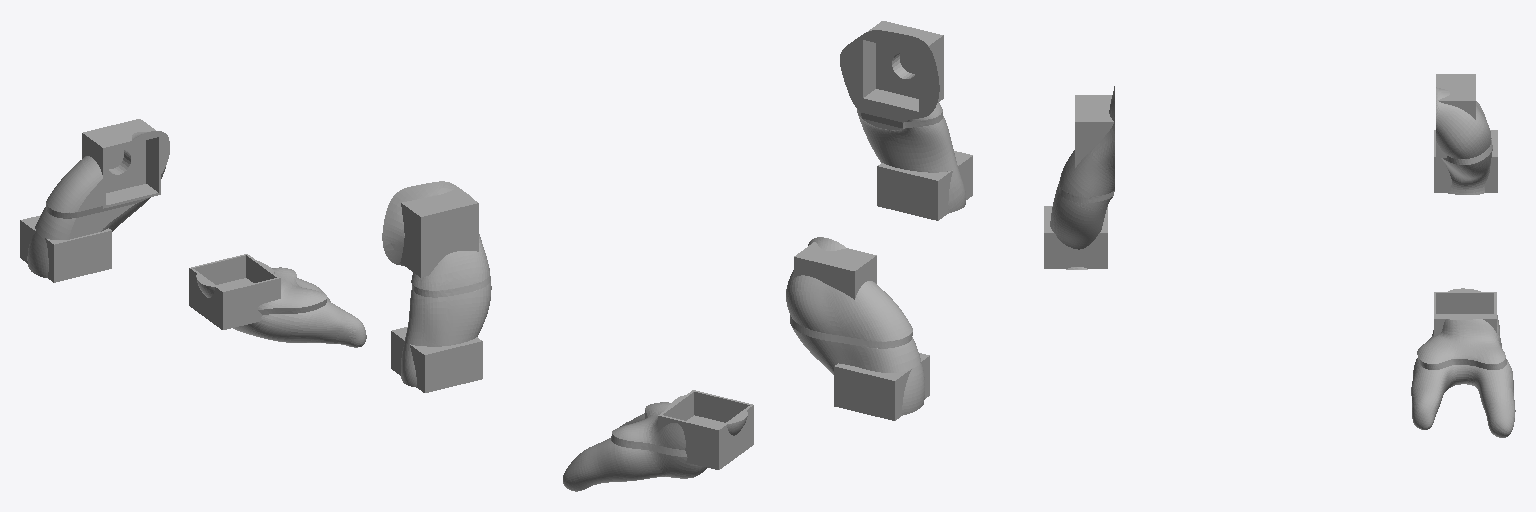
robot.urdf — FrogBot4_top-FrogBot4-y-1_bottom-FrogBot4-y-1:
<?xml version="1.0" ?>
<robot name="FrogBot4_top-FrogBot4-y-1_bottom-FrogBot4-y-1">

<material name="pla_5_percent_infill">
  <color rgba="0.700 0.700 0.700 1.000"/>
</material>

<link name="base_link">
  <inertial>
    <origin xyz="0 0 0" rpy="0 0 0"/>
    <mass value="1.4608203761339813"/>
    <inertia ixx="0.00496034401110324" iyy="0.010259632804669863" izz="0.010457868746855814" ixy="4.519338143051983e-05" iyz="5.808312742508133e-05" ixz="-0.001193761897574285"/>
  </inertial>
  <visual>
    <origin xyz="0 0 0" rpy="0 0 0"/>
    <geometry>
      <mesh filename="simple_meshes/base_link.stl" scale="0.001 0.001 0.001"/>
    </geometry>
    <material name="pla_5_percent_infill"/>
  </visual>
  <collision>
    <origin xyz="0 0 0" rpy="0 0 0"/>
    <geometry>
      <mesh filename="simple_meshes/base_link.stl" scale="0.001 0.001 0.001"/>
    </geometry>
  </collision>
</link>

<link name="body_1_0_1">
  <inertial>
    <origin xyz="-0.039935 -0.102508 -0.020563" rpy="0 0 0"/>
    <mass value="0.06313492369456997"/>
    <inertia ixx="5.843325428574143e-05" iyy="7.04835361188316e-05" izz="2.8563724284362416e-05" ixy="8.239008404329587e-07" iyz="1.7999714321806554e-06" ixz="-1.0703921743233354e-05"/>
  </inertial>
  <visual>
    <origin xyz="-0.039935 -0.102508 -0.020563" rpy="0 0 0"/>
    <geometry>
      <mesh filename="simple_meshes/body_1_0_1.stl" scale="0.001 0.001 0.001"/>
    </geometry>
    <material name="pla_5_percent_infill"/>
  </visual>
  <collision>
    <origin xyz="-0.039935 -0.102508 -0.020563" rpy="0 0 0"/>
    <geometry>
      <mesh filename="simple_meshes/body_1_0_1.stl" scale="0.001 0.001 0.001"/>
    </geometry>
  </collision>
</link>

<link name="body_1_1_1">
  <inertial>
    <origin xyz="0.084829 -0.102508 0.010182" rpy="0 0 0"/>
    <mass value="0.06673737677147111"/>
    <inertia ixx="3.983383224579178e-05" iyy="7.526511997601928e-05" izz="5.270763807124594e-05" ixy="-1.2538064368516465e-06" iyz="1.1250889303848798e-06" ixz="-1.828701279363404e-05"/>
  </inertial>
  <visual>
    <origin xyz="0.084829 -0.102508 0.010182" rpy="0 0 0"/>
    <geometry>
      <mesh filename="simple_meshes/body_1_1_1.stl" scale="0.001 0.001 0.001"/>
    </geometry>
    <material name="pla_5_percent_infill"/>
  </visual>
  <collision>
    <origin xyz="0.084829 -0.102508 0.010182" rpy="0 0 0"/>
    <geometry>
      <mesh filename="simple_meshes/body_1_1_1.stl" scale="0.001 0.001 0.001"/>
    </geometry>
  </collision>
</link>

<link name="body_1_2_1">
  <inertial>
    <origin xyz="-0.032973 0.102508 -0.03352" rpy="0 0 0"/>
    <mass value="0.06955426381283918"/>
    <inertia ixx="7.500047955113771e-05" iyy="8.648441072695885e-05" izz="3.210062370877058e-05" ixy="-2.199899373185935e-06" iyz="-8.821046103620829e-06" ixz="-9.195537521228036e-06"/>
  </inertial>
  <visual>
    <origin xyz="-0.032973 0.102508 -0.03352" rpy="0 0 0"/>
    <geometry>
      <mesh filename="simple_meshes/body_1_2_1.stl" scale="0.001 0.001 0.001"/>
    </geometry>
    <material name="pla_5_percent_infill"/>
  </visual>
  <collision>
    <origin xyz="-0.032973 0.102508 -0.03352" rpy="0 0 0"/>
    <geometry>
      <mesh filename="simple_meshes/body_1_2_1.stl" scale="0.001 0.001 0.001"/>
    </geometry>
  </collision>
</link>

<link name="body_1_3_1">
  <inertial>
    <origin xyz="0.075405 0.102508 -0.000907" rpy="0 0 0"/>
    <mass value="0.07198462885448909"/>
    <inertia ixx="4.4425021382359054e-05" iyy="8.068727495059937e-05" izz="5.518924378403352e-05" ixy="4.2159472883845743e-07" iyz="-1.1244787044685056e-06" ixz="-1.861083687009483e-05"/>
  </inertial>
  <visual>
    <origin xyz="0.075405 0.102508 -0.000907" rpy="0 0 0"/>
    <geometry>
      <mesh filename="simple_meshes/body_1_3_1.stl" scale="0.001 0.001 0.001"/>
    </geometry>
    <material name="pla_5_percent_infill"/>
  </visual>
  <collision>
    <origin xyz="0.075405 0.102508 -0.000907" rpy="0 0 0"/>
    <geometry>
      <mesh filename="simple_meshes/body_1_3_1.stl" scale="0.001 0.001 0.001"/>
    </geometry>
  </collision>
</link>

<link name="body_2_0_1">
  <inertial>
    <origin xyz="-0.025656 -0.145015 0.090436" rpy="0 0 0"/>
    <mass value="0.06594764042116746"/>
    <inertia ixx="3.854212829119746e-05" iyy="5.867800589861921e-05" izz="7.538996514267274e-05" ixy="-8.648428678402443e-07" iyz="4.19097294451342e-07" ixz="1.3237917248230965e-05"/>
  </inertial>
  <visual>
    <origin xyz="-0.025656 -0.145015 0.090436" rpy="0 0 0"/>
    <geometry>
      <mesh filename="simple_meshes/body_2_0_1.stl" scale="0.001 0.001 0.001"/>
    </geometry>
    <material name="pla_5_percent_infill"/>
  </visual>
  <collision>
    <origin xyz="-0.025656 -0.145015 0.090436" rpy="0 0 0"/>
    <geometry>
      <mesh filename="simple_meshes/body_2_0_1.stl" scale="0.001 0.001 0.001"/>
    </geometry>
  </collision>
</link>

<link name="body_2_1_1">
  <inertial>
    <origin xyz="0.114857 -0.145661 0.090438" rpy="0 0 0"/>
    <mass value="0.058043657931819856"/>
    <inertia ixx="2.523367734305615e-05" iyy="5.4249261467249465e-05" izz="5.5471699931439926e-05" ixy="-4.9333440549038585e-06" iyz="3.213482911364283e-06" ixz="1.4245181836913118e-05"/>
  </inertial>
  <visual>
    <origin xyz="0.114857 -0.145661 0.090438" rpy="0 0 0"/>
    <geometry>
      <mesh filename="simple_meshes/body_2_1_1.stl" scale="0.001 0.001 0.001"/>
    </geometry>
    <material name="pla_5_percent_infill"/>
  </visual>
  <collision>
    <origin xyz="0.114857 -0.145661 0.090438" rpy="0 0 0"/>
    <geometry>
      <mesh filename="simple_meshes/body_2_1_1.stl" scale="0.001 0.001 0.001"/>
    </geometry>
  </collision>
</link>

<link name="body_2_2_1">
  <inertial>
    <origin xyz="-0.022601 0.152053 0.090436" rpy="0 0 0"/>
    <mass value="0.0726155890100858"/>
    <inertia ixx="4.226231214159116e-05" iyy="6.230914563100376e-05" izz="8.051978925855286e-05" ixy="-1.616787801618719e-06" iyz="-1.3173557591181564e-07" ixz="1.4054700895365507e-05"/>
  </inertial>
  <visual>
    <origin xyz="-0.022601 0.152053 0.090436" rpy="0 0 0"/>
    <geometry>
      <mesh filename="simple_meshes/body_2_2_1.stl" scale="0.001 0.001 0.001"/>
    </geometry>
    <material name="pla_5_percent_infill"/>
  </visual>
  <collision>
    <origin xyz="-0.022601 0.152053 0.090436" rpy="0 0 0"/>
    <geometry>
      <mesh filename="simple_meshes/body_2_2_1.stl" scale="0.001 0.001 0.001"/>
    </geometry>
  </collision>
</link>

<link name="body_2_3_1">
  <inertial>
    <origin xyz="0.12145 0.146005 0.090436" rpy="0 0 0"/>
    <mass value="0.05640821954295647"/>
    <inertia ixx="3.344273138606484e-05" iyy="4.363898696860009e-05" izz="5.75641247310629e-05" ixy="7.4872157144842844e-06" iyz="-5.587502073621867e-06" ixz="9.579623937786756e-06"/>
  </inertial>
  <visual>
    <origin xyz="0.12145 0.146005 0.090436" rpy="0 0 0"/>
    <geometry>
      <mesh filename="simple_meshes/body_2_3_1.stl" scale="0.001 0.001 0.001"/>
    </geometry>
    <material name="pla_5_percent_infill"/>
  </visual>
  <collision>
    <origin xyz="0.12145 0.146005 0.090436" rpy="0 0 0"/>
    <geometry>
      <mesh filename="simple_meshes/body_2_3_1.stl" scale="0.001 0.001 0.001"/>
    </geometry>
  </collision>
</link>

<joint name="joint_1_0" type="revolute">
  <origin xyz="0.039935 0.102508 0.020563" rpy="0 0 0"/>
  <parent link="base_link"/>
  <child link="body_1_0_1"/>
  <axis xyz="0.0 0.0 -1.0"/>
  <limit upper="1.2" lower="-1.2" effort="3.8" velocity="5.4"/>
</joint>
<transmission name="joint_1_0_tran">
  <type>transmission_interface/SimpleTransmission</type>
  <joint name="joint_1_0">
    <hardwareInterface>PositionJointInterface</hardwareInterface>
  </joint>
  <actuator name="joint_1_0_actr">
    <hardwareInterface>PositionJointInterface</hardwareInterface>
    <mechanicalReduction>1</mechanicalReduction>
  </actuator>
</transmission>

<joint name="joint_1_1" type="revolute">
  <origin xyz="-0.084829 0.102508 -0.010182" rpy="0 0 0"/>
  <parent link="base_link"/>
  <child link="body_1_1_1"/>
  <axis xyz="0.0 0.0 -1.0"/>
  <limit upper="1.2" lower="-1.2" effort="3.8" velocity="5.4"/>
</joint>
<transmission name="joint_1_1_tran">
  <type>transmission_interface/SimpleTransmission</type>
  <joint name="joint_1_1">
    <hardwareInterface>PositionJointInterface</hardwareInterface>
  </joint>
  <actuator name="joint_1_1_actr">
    <hardwareInterface>PositionJointInterface</hardwareInterface>
    <mechanicalReduction>1</mechanicalReduction>
  </actuator>
</transmission>

<joint name="joint_1_2" type="revolute">
  <origin xyz="0.032973 -0.102508 0.03352" rpy="0 0 0"/>
  <parent link="base_link"/>
  <child link="body_1_2_1"/>
  <axis xyz="0.0 0.0 -1.0"/>
  <limit upper="1.2" lower="-1.2" effort="3.8" velocity="5.4"/>
</joint>
<transmission name="joint_1_2_tran">
  <type>transmission_interface/SimpleTransmission</type>
  <joint name="joint_1_2">
    <hardwareInterface>PositionJointInterface</hardwareInterface>
  </joint>
  <actuator name="joint_1_2_actr">
    <hardwareInterface>PositionJointInterface</hardwareInterface>
    <mechanicalReduction>1</mechanicalReduction>
  </actuator>
</transmission>

<joint name="joint_1_3" type="revolute">
  <origin xyz="-0.075405 -0.102508 0.000907" rpy="0 0 0"/>
  <parent link="base_link"/>
  <child link="body_1_3_1"/>
  <axis xyz="0.0 0.0 -1.0"/>
  <limit upper="1.2" lower="-1.2" effort="3.8" velocity="5.4"/>
</joint>
<transmission name="joint_1_3_tran">
  <type>transmission_interface/SimpleTransmission</type>
  <joint name="joint_1_3">
    <hardwareInterface>PositionJointInterface</hardwareInterface>
  </joint>
  <actuator name="joint_1_3_actr">
    <hardwareInterface>PositionJointInterface</hardwareInterface>
    <mechanicalReduction>1</mechanicalReduction>
  </actuator>
</transmission>

<joint name="joint_2_0" type="revolute">
  <origin xyz="-0.014279 0.042507 -0.110999" rpy="0 0 0"/>
  <parent link="body_1_0_1"/>
  <child link="body_2_0_1"/>
  <axis xyz="0.0 1.0 0.0"/>
  <limit upper="1.2" lower="-1.2" effort="3.8" velocity="5.4"/>
</joint>
<transmission name="joint_2_0_tran">
  <type>transmission_interface/SimpleTransmission</type>
  <joint name="joint_2_0">
    <hardwareInterface>PositionJointInterface</hardwareInterface>
  </joint>
  <actuator name="joint_2_0_actr">
    <hardwareInterface>PositionJointInterface</hardwareInterface>
    <mechanicalReduction>1</mechanicalReduction>
  </actuator>
</transmission>

<joint name="joint_2_1" type="revolute">
  <origin xyz="-0.030028 0.043153 -0.080256" rpy="0 0 0"/>
  <parent link="body_1_1_1"/>
  <child link="body_2_1_1"/>
  <axis xyz="0.0 1.0 0.0"/>
  <limit upper="1.2" lower="-1.2" effort="3.8" velocity="5.4"/>
</joint>
<transmission name="joint_2_1_tran">
  <type>transmission_interface/SimpleTransmission</type>
  <joint name="joint_2_1">
    <hardwareInterface>PositionJointInterface</hardwareInterface>
  </joint>
  <actuator name="joint_2_1_actr">
    <hardwareInterface>PositionJointInterface</hardwareInterface>
    <mechanicalReduction>1</mechanicalReduction>
  </actuator>
</transmission>

<joint name="joint_2_2" type="revolute">
  <origin xyz="-0.010372 -0.049545 -0.123956" rpy="0 0 0"/>
  <parent link="body_1_2_1"/>
  <child link="body_2_2_1"/>
  <axis xyz="0.0 1.0 0.0"/>
  <limit upper="1.2" lower="-1.2" effort="3.8" velocity="5.4"/>
</joint>
<transmission name="joint_2_2_tran">
  <type>transmission_interface/SimpleTransmission</type>
  <joint name="joint_2_2">
    <hardwareInterface>PositionJointInterface</hardwareInterface>
  </joint>
  <actuator name="joint_2_2_actr">
    <hardwareInterface>PositionJointInterface</hardwareInterface>
    <mechanicalReduction>1</mechanicalReduction>
  </actuator>
</transmission>

<joint name="joint_2_3" type="revolute">
  <origin xyz="-0.046045 -0.043497 -0.091343" rpy="0 0 0"/>
  <parent link="body_1_3_1"/>
  <child link="body_2_3_1"/>
  <axis xyz="0.0 1.0 0.0"/>
  <limit upper="1.2" lower="-1.2" effort="3.8" velocity="5.4"/>
</joint>
<transmission name="joint_2_3_tran">
  <type>transmission_interface/SimpleTransmission</type>
  <joint name="joint_2_3">
    <hardwareInterface>PositionJointInterface</hardwareInterface>
  </joint>
  <actuator name="joint_2_3_actr">
    <hardwareInterface>PositionJointInterface</hardwareInterface>
    <mechanicalReduction>1</mechanicalReduction>
  </actuator>
</transmission>

</robot>

--- What the picture shows (computed from the rendered views, not written in the file) ---
Views: 3 orthographic renders of the robot side by side, from view 1: azimuth 30°, elevation 25°; view 2: azimuth 150°, elevation 25°; view 3: azimuth 270°, elevation 25°.
Model FrogBot4_top-FrogBot4-y-1_bottom-FrogBot4-y-1 with 9 links and 8 joints (8 revolute), rooted at base_link, posed all joints at 0.
Visible links, largest first — view 1: body_1_2_1, body_1_1_1, body_2_0_1; view 2: body_1_2_1, body_1_1_1, body_2_0_1; view 3: body_2_0_1, body_1_2_1, body_1_1_1.
Boxes of the visible links, x1,y1,x2,y2 form: body_1_2_1: (382,181,491,392); body_1_1_1: (20,119,169,282); body_2_0_1: (189,254,366,347); body_1_2_1: (840,21,972,220); body_1_1_1: (786,237,929,420); body_2_0_1: (563,390,753,491); body_2_0_1: (1411,288,1515,437); body_1_2_1: (1044,86,1114,269); body_1_1_1: (1434,74,1497,194).
Size in the robot's own frame: 0.2661 by 0.3597 by 0.2491 metres.
Meshes: 9 distinct files referenced, 3 mesh visuals loaded (3 binary STL); not drawn: 6 (reference not matched to a file when rendering).